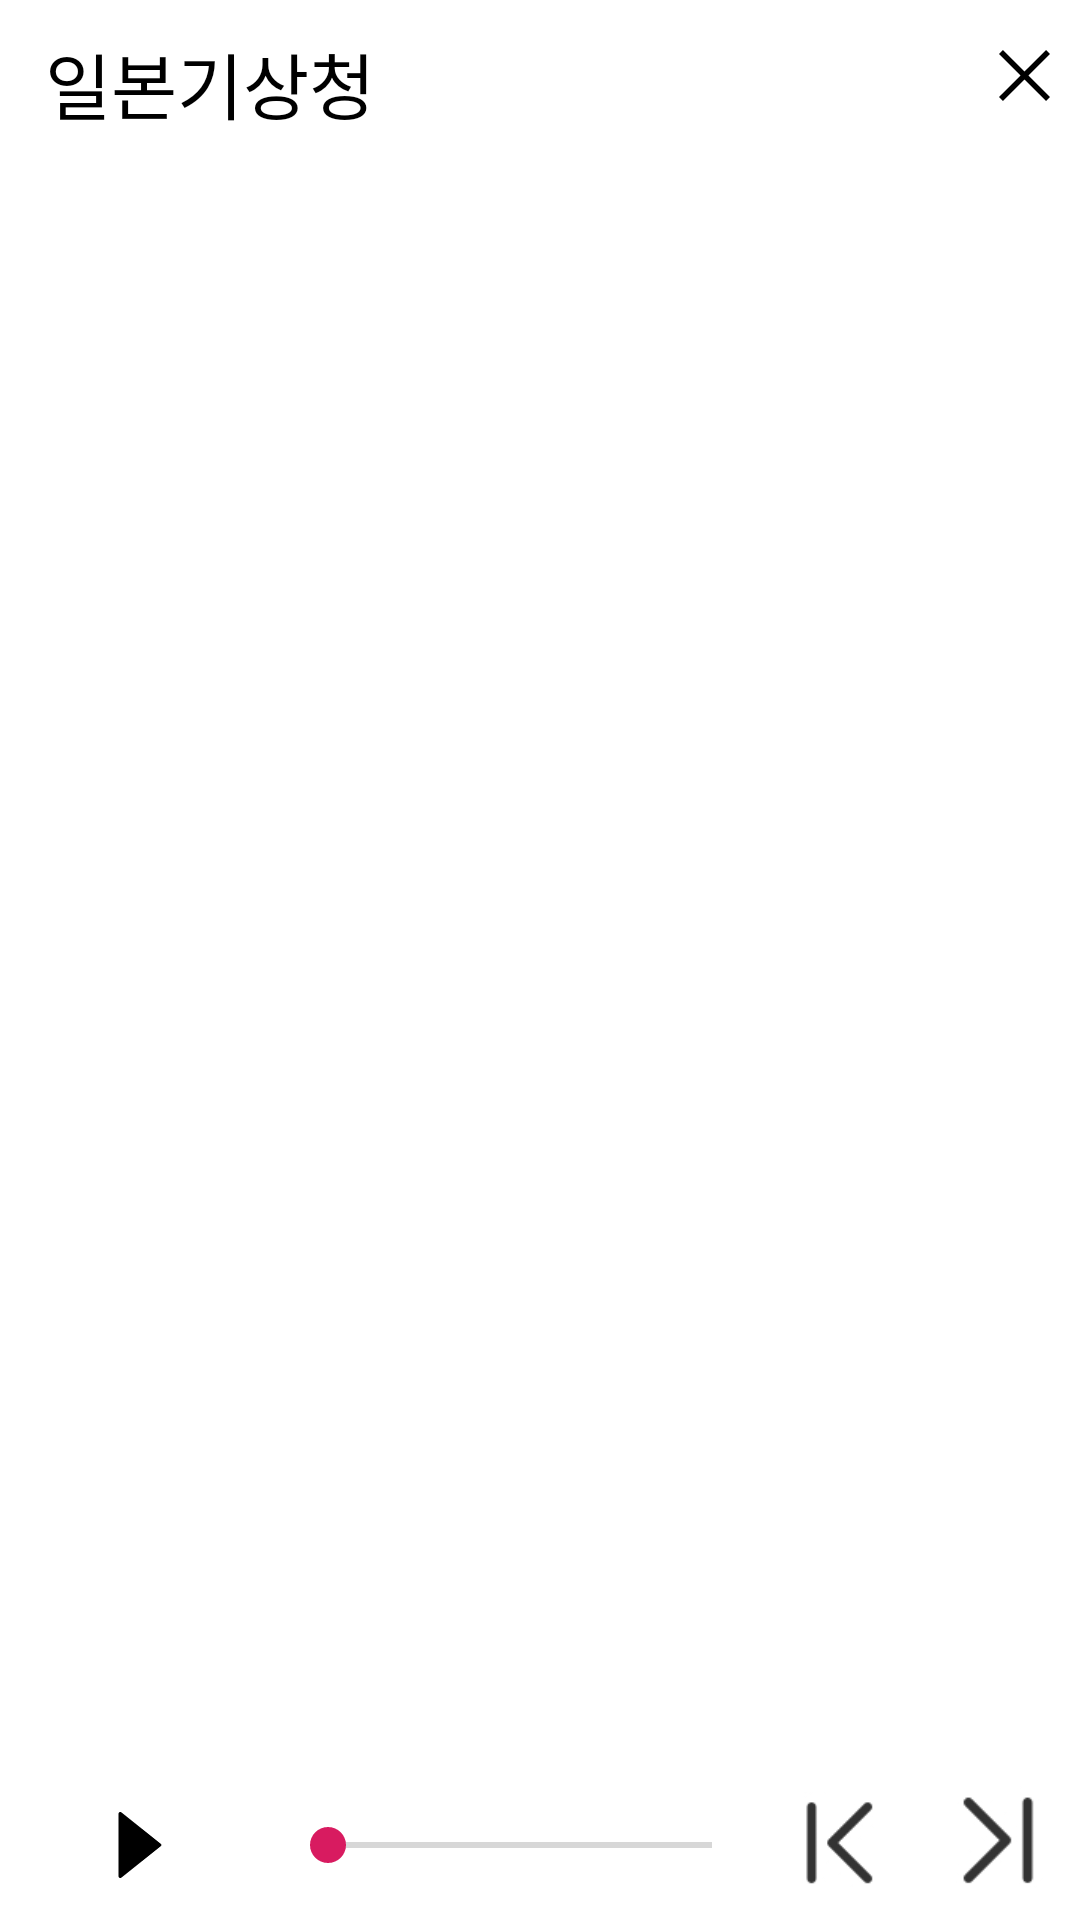

Where to tap for icons on this 1080×1920 app screen, as (x,y):
cancel: (1024,75)
go next: (998,1840)
go prev: (839,1843)
